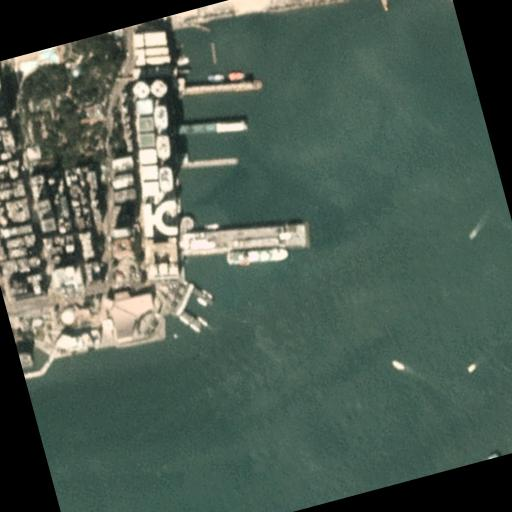ship: (222, 236, 290, 276), (202, 68, 224, 86), (224, 66, 244, 82), (388, 357, 404, 372), (200, 220, 218, 232), (464, 360, 478, 374), (465, 227, 478, 239)
